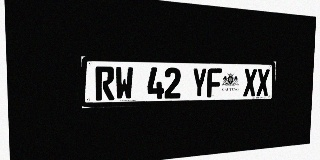2: (164, 67, 181, 99)
4: (147, 67, 164, 99)
F: (207, 68, 222, 97)
R: (95, 66, 114, 100)
W: (115, 67, 133, 100)
X: (243, 69, 257, 96), (256, 69, 270, 96)
Y: (192, 68, 207, 98)
